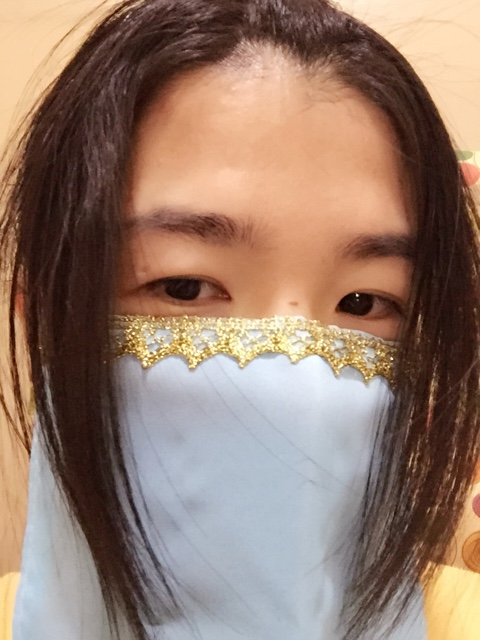face_mask: (90, 119, 429, 580)
